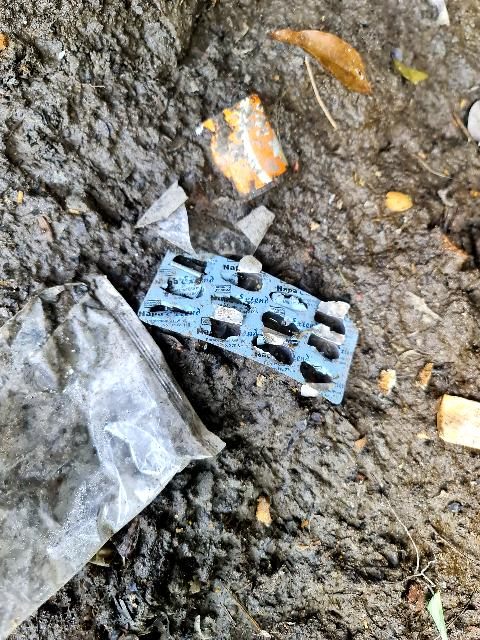medicine: (122, 209, 395, 424)
